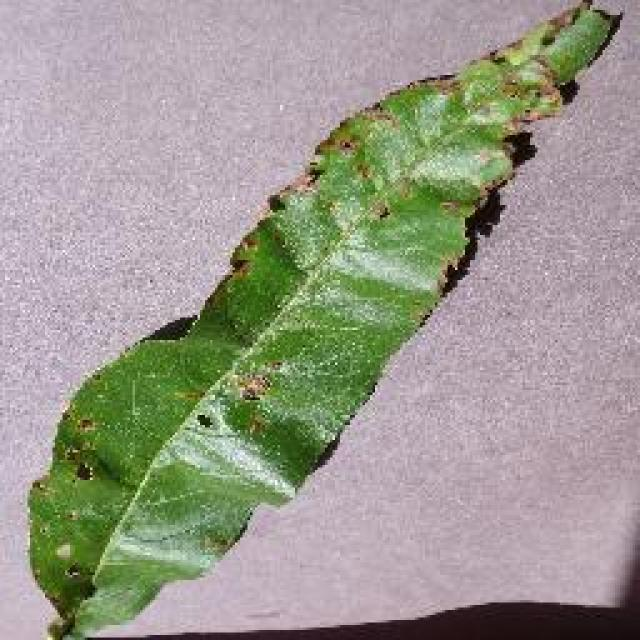Bacterial_spot: (223, 356, 299, 415), (486, 67, 562, 123), (280, 170, 339, 197)
